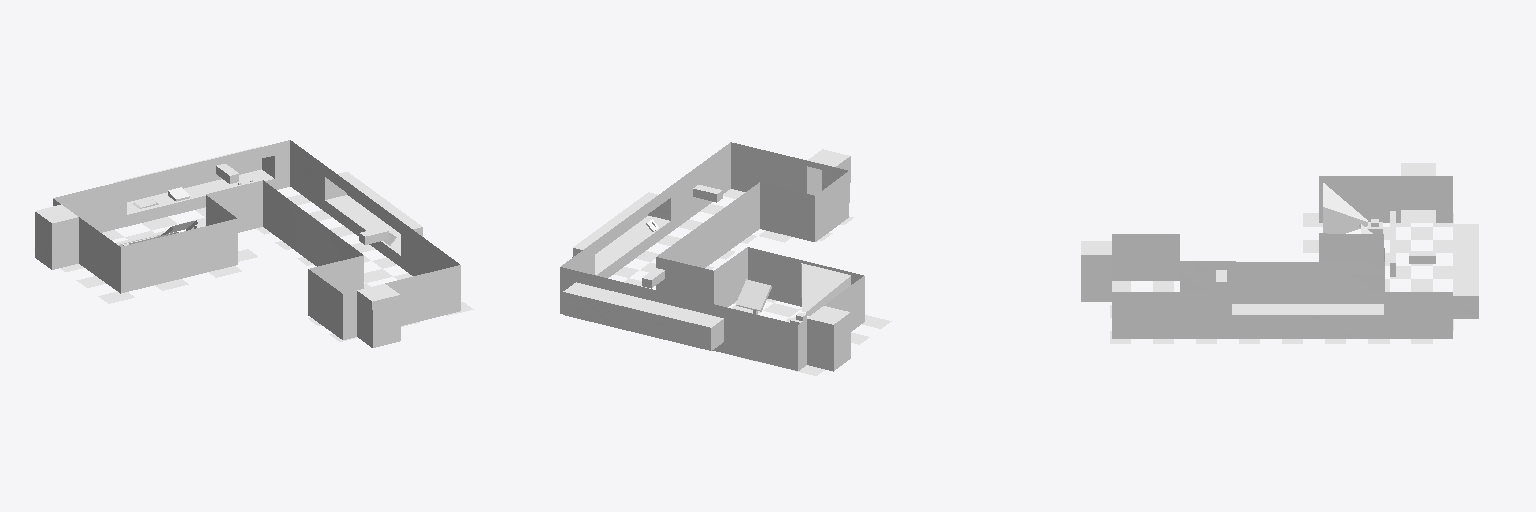
3 views of the same model, side by side, from view 1: azimuth 30°, elevation 25°; view 2: azimuth 150°, elevation 25°; view 3: azimuth 270°, elevation 25° (orthographic).
Visible parts, largest first — view 1: _PP; view 2: _PP; view 3: _PP.
Part boxes in pixels (bbox=[...]): _PP: bbox=[34, 140, 473, 347]; _PP: bbox=[560, 142, 891, 375]; _PP: bbox=[1081, 163, 1478, 343].
Bounding box in the file's own units: 386 × 60.76 × 464.